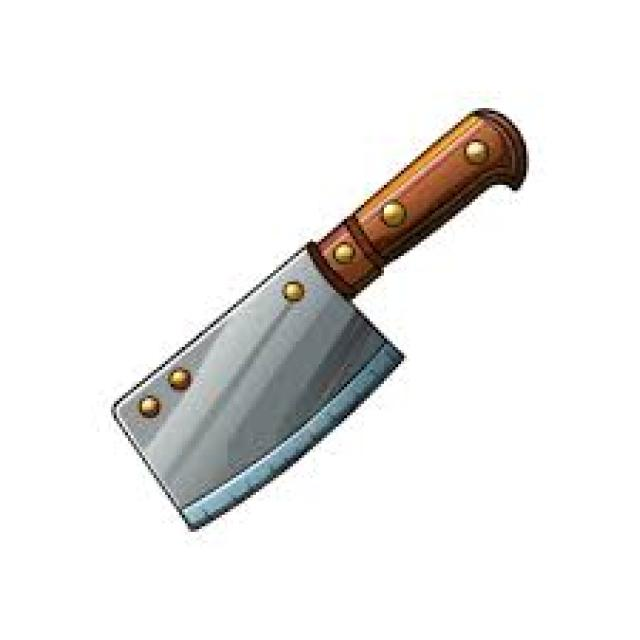Knife: (114, 108, 526, 526)
